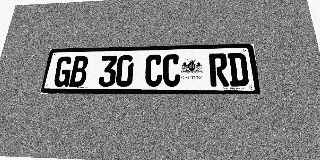0: (115, 55, 134, 87)
3: (98, 55, 117, 87)
B: (69, 56, 89, 87)
C: (144, 54, 163, 87), (163, 54, 180, 87)
D: (227, 53, 249, 86)
G: (52, 56, 73, 87)
R: (209, 53, 229, 87)
